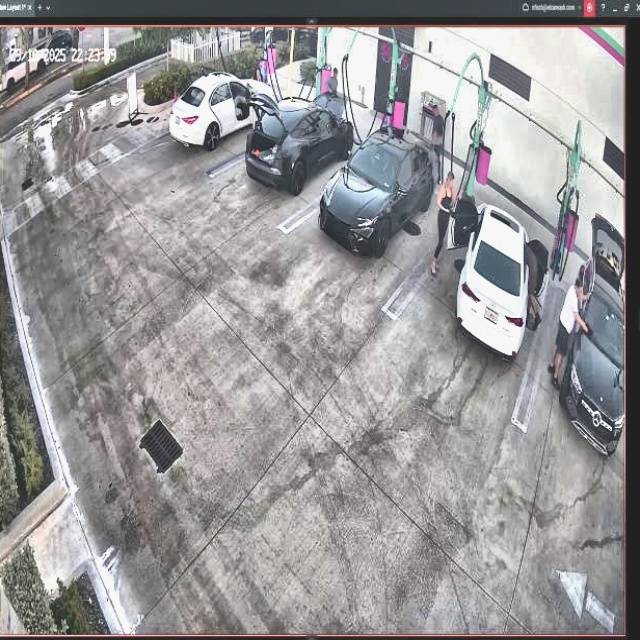Car: (320, 125, 433, 257), (450, 193, 536, 354), (247, 89, 352, 195), (170, 70, 276, 152)
